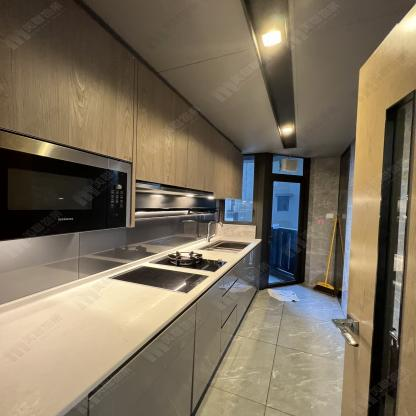Cupboard: (137, 59, 243, 201)
Exhaust Fan: (281, 158, 299, 173)
Faucet: (206, 220, 223, 242)
Microwave: (1, 127, 134, 244)
Sink: (189, 238, 260, 255)
Stove: (101, 263, 219, 298), (145, 249, 242, 275)
